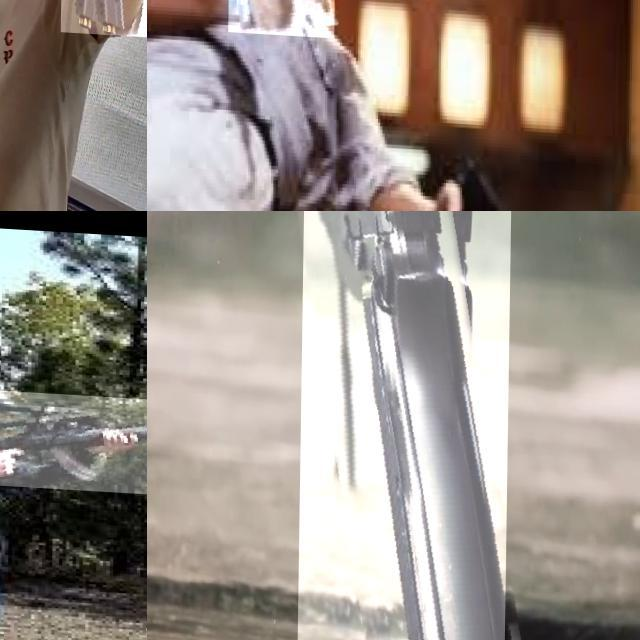gun-knife-thesis - v11 Yolov5 augmented: (298, 211, 513, 640), (0, 384, 147, 493), (407, 98, 524, 211), (62, 0, 147, 149), (228, 0, 336, 62)
